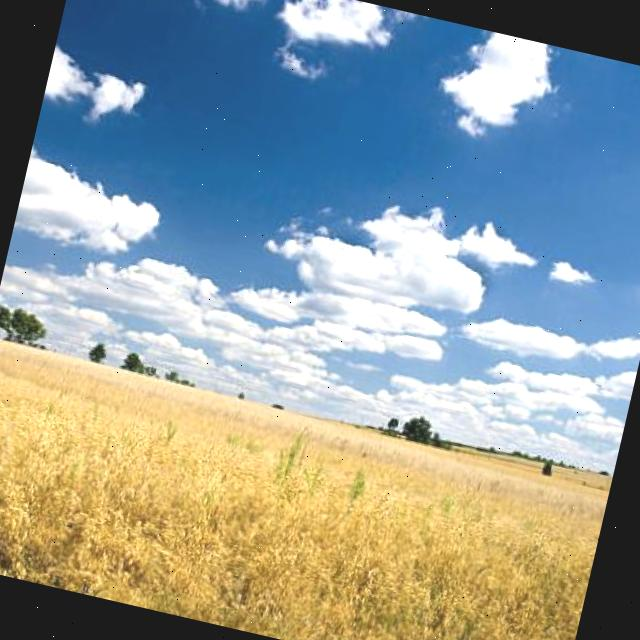Cc: (226, 173, 640, 434)
